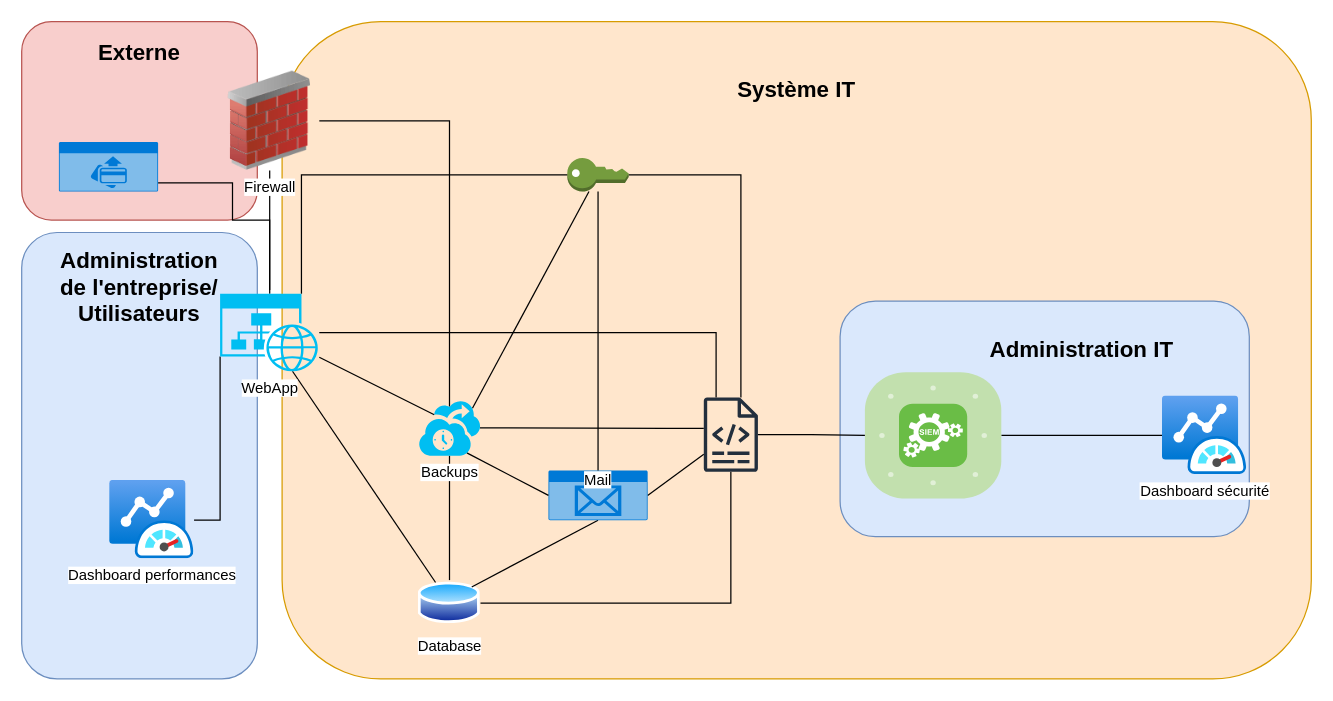
This 1333x701 diagram has some shape labels left out. The centre of each missing label's shape, as x and y in pixels:
"Logs" belongs at point (730, 434).
"Paiement" belongs at point (107, 166).
"SIEM" belongs at point (932, 435).
"SSO" belongs at point (597, 174).
